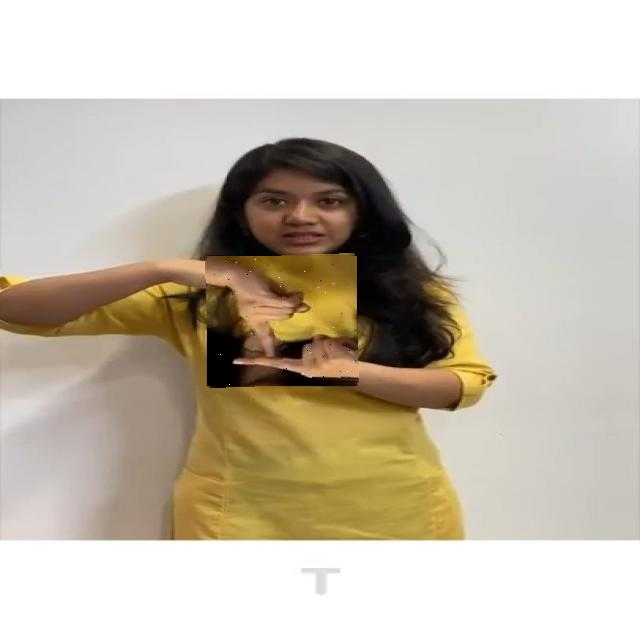T: (206, 255, 358, 387)
